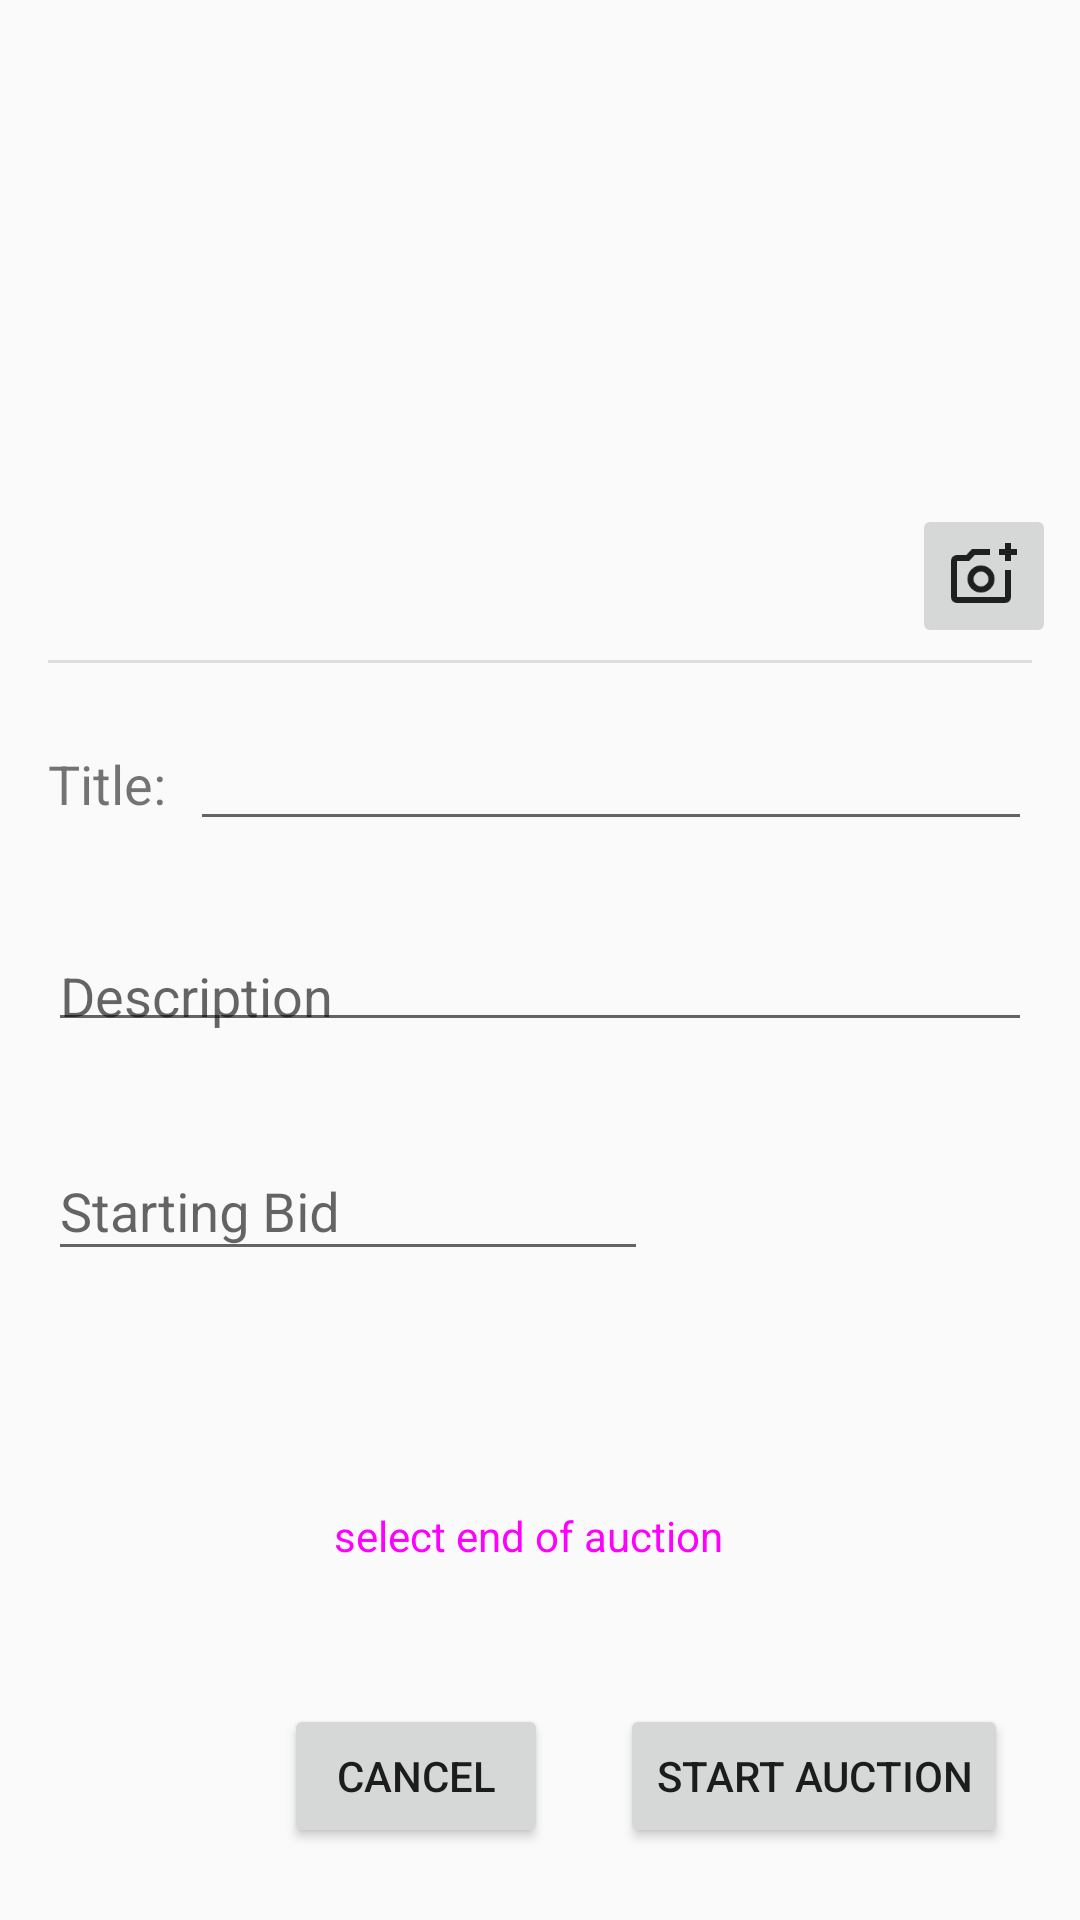

Icons on this 1080×1920 Android screen, each with the point to tap as (x=x, y=y):
add photo: (x=984, y=576)
